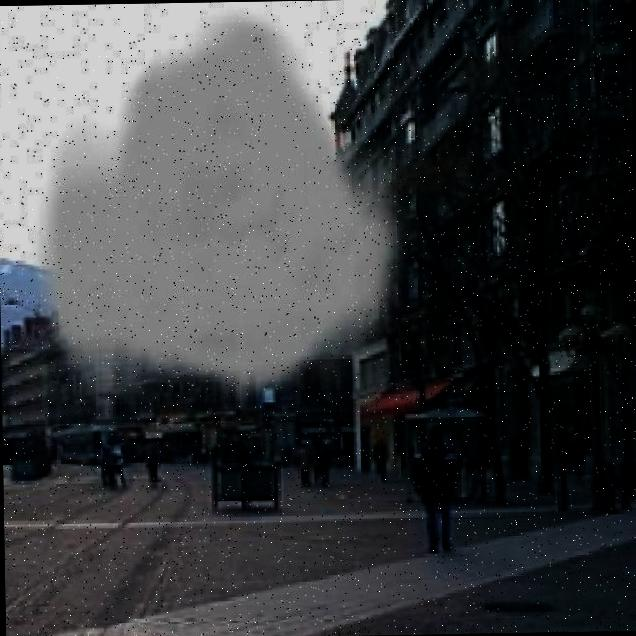smoke: (27, 37, 419, 404)
